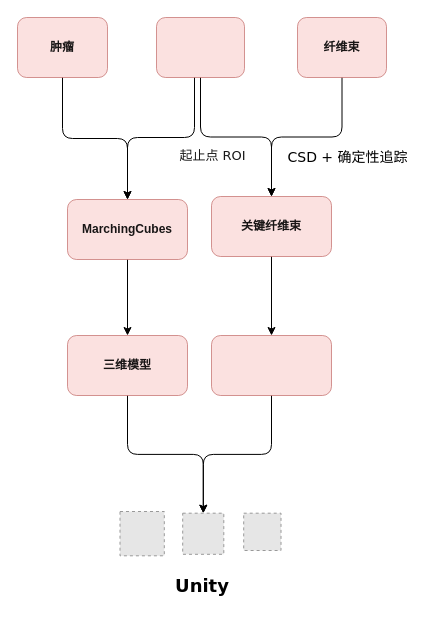
Image size: 425x618. Some labels were removed from this diagram. Grey dashed boxes stand in for pictures. Each missing label, with the centre of its shape:
Streamline: point 271,365
脑功能区 皮层下结构: point 200,47
